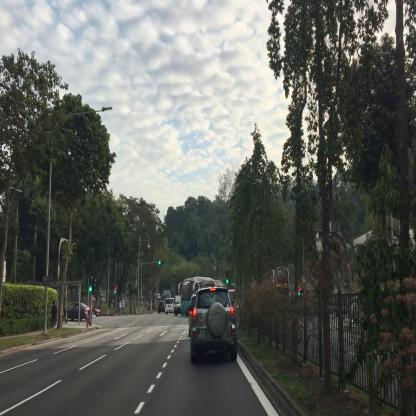green_traffic_light: (89, 277, 92, 292), (226, 270, 228, 284), (158, 260, 164, 263)
